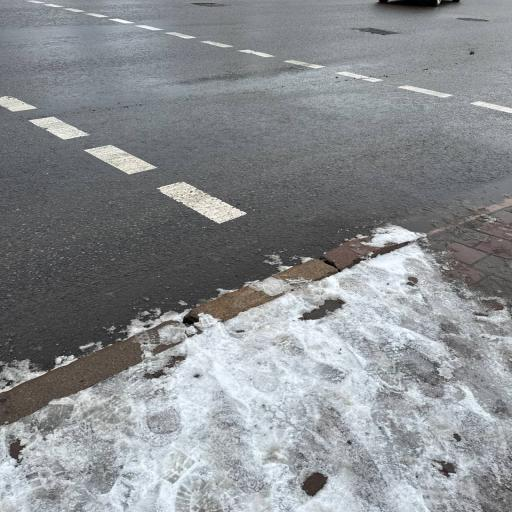closet: (0, 0, 511, 271)
construction_fence: (0, 236, 370, 436)
ramp: (0, 0, 511, 393)
shelf: (0, 198, 511, 512)
